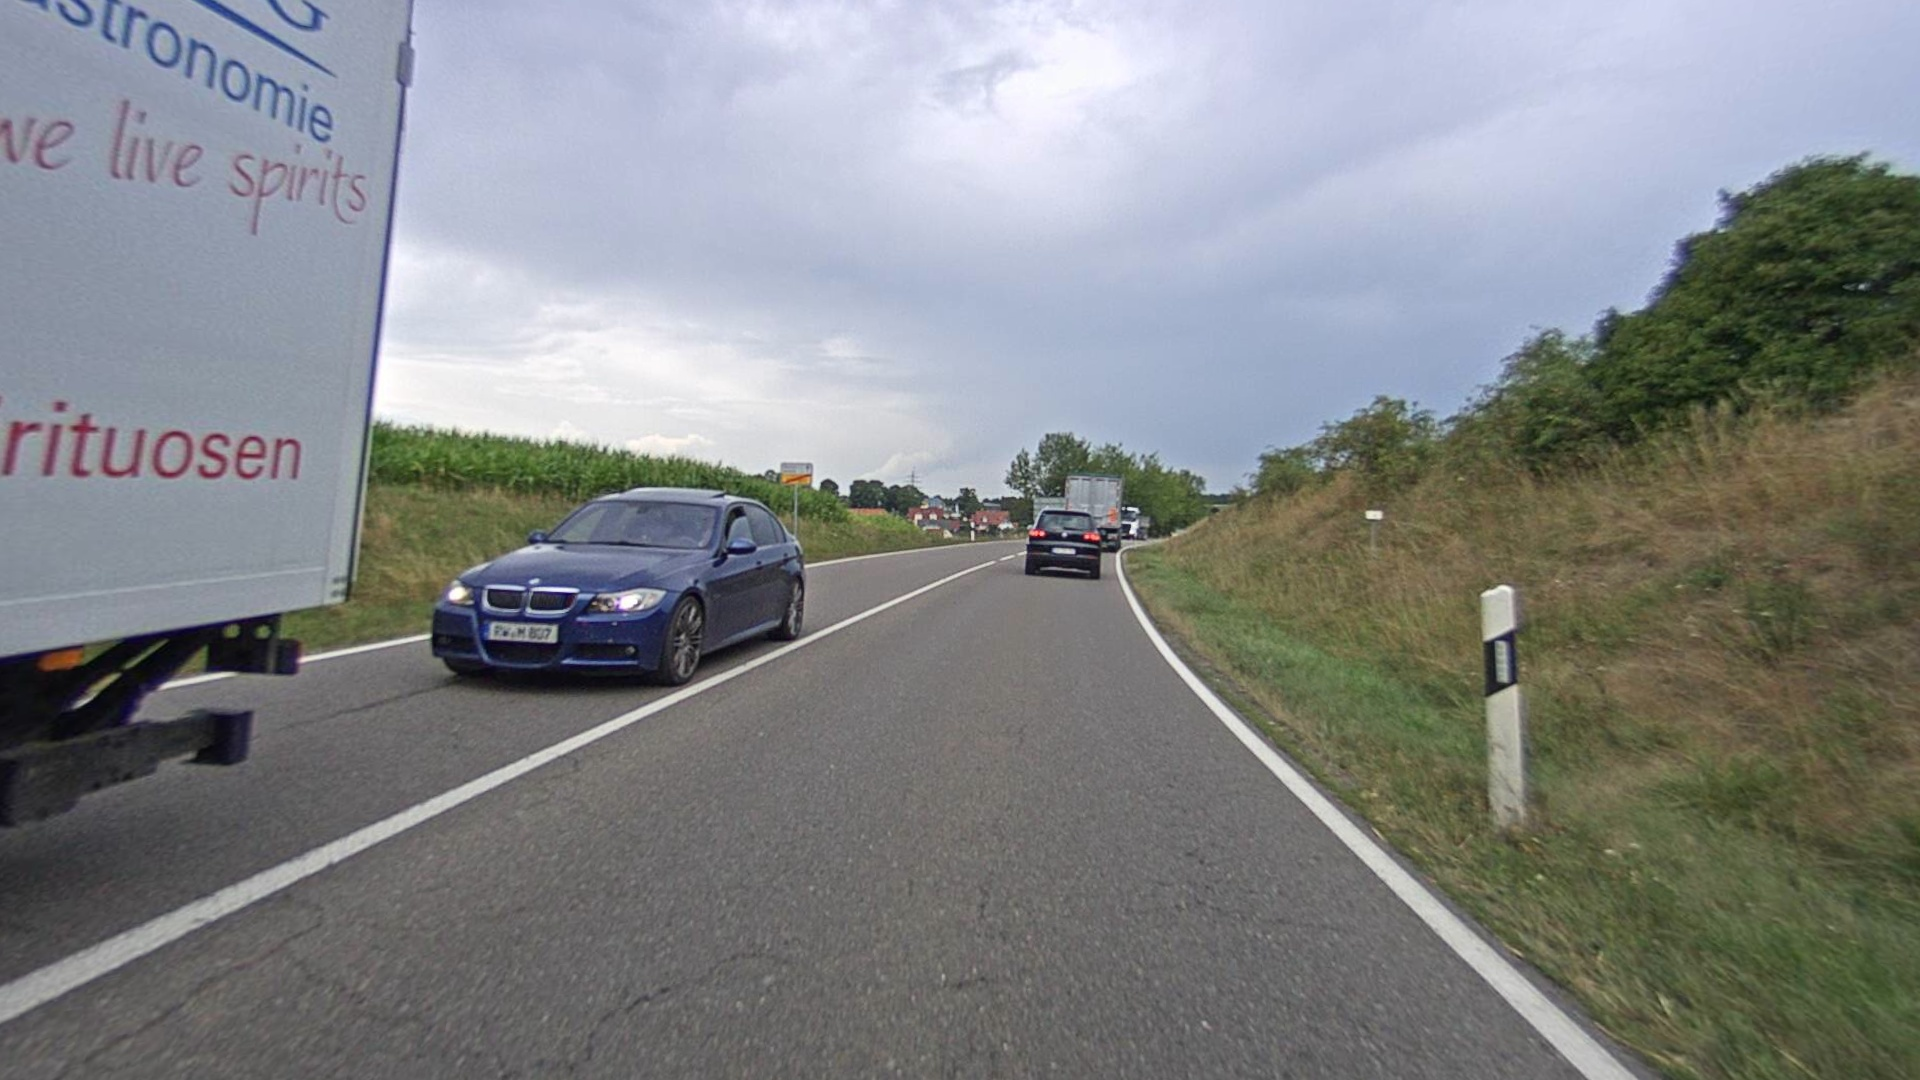car: (429, 484, 811, 691)
